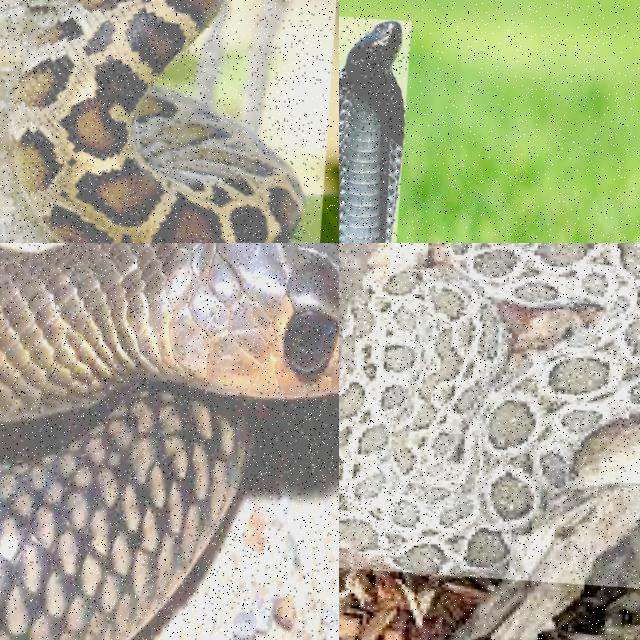Daboia siamensis: (339, 243, 639, 574)
Naja kaouthia: (0, 243, 338, 639)
Ophiophagus hannah: (339, 21, 404, 242)
Python bivittatus: (10, 0, 302, 242)
snake: (0, 243, 338, 639), (339, 243, 639, 574), (10, 0, 302, 242), (339, 21, 404, 242)
